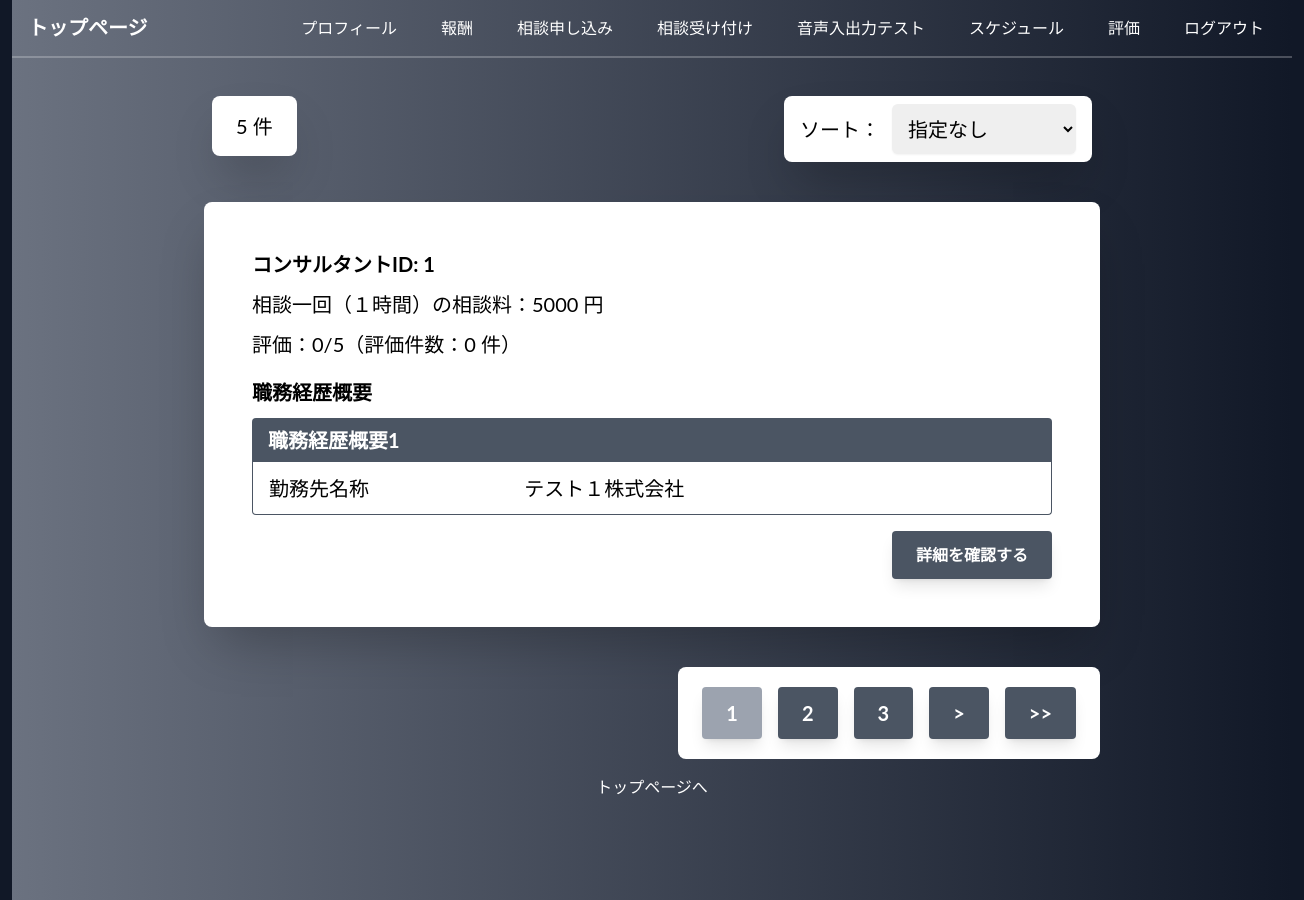
Test: ConsultantListPage.vue › has next, last, first, prev and 5 index buttons case1
This screenshot has width=1304, height=900.
expect the element with test id "page-move-buttons" is shown: met, box x1=678 y1=667 x2=1100 y2=759
Click the button "3". click: (883, 713)
box: x1=854 y1=687 x2=913 y2=739
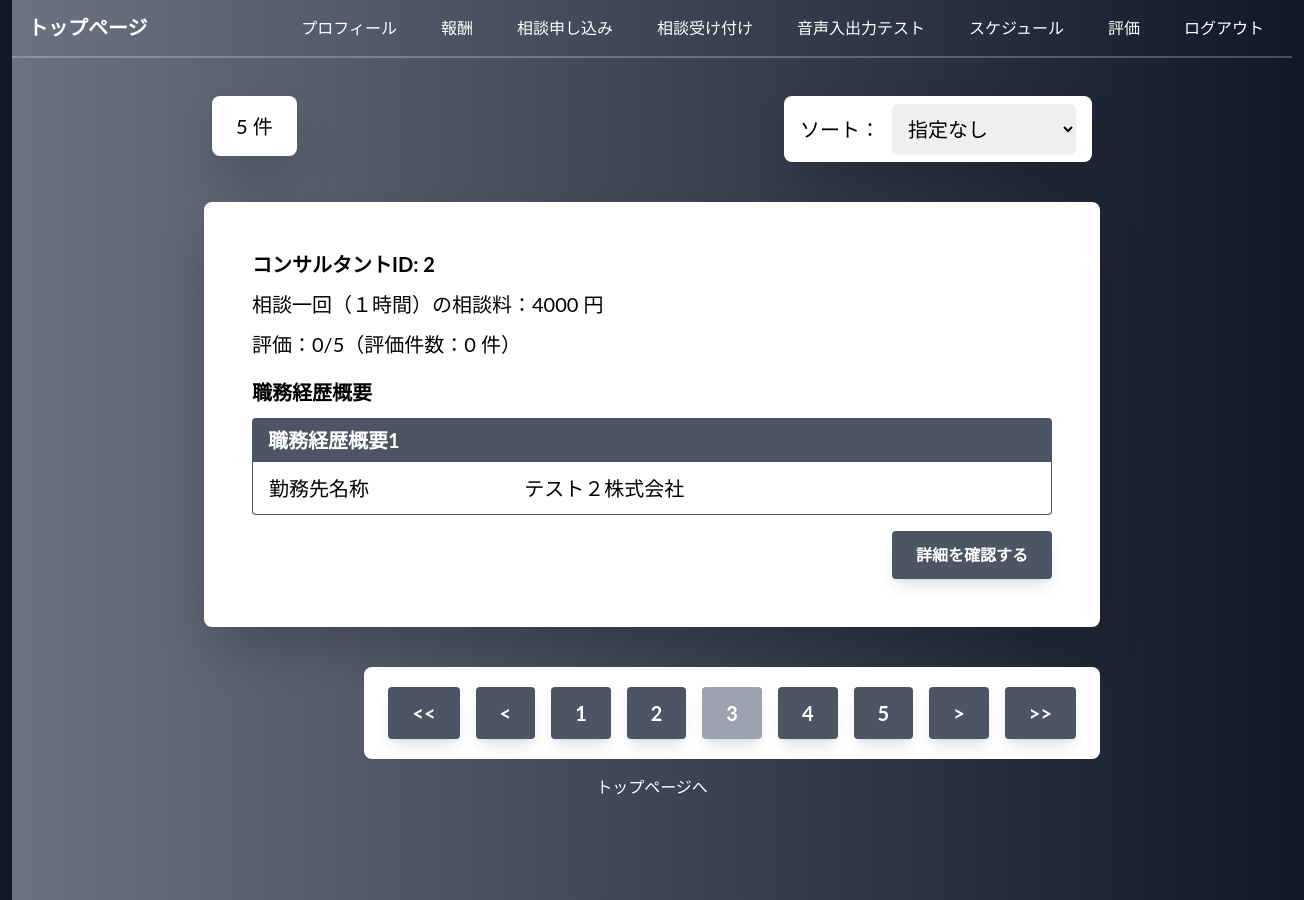
expect the button with test id "to-first-button" is shown: met, box x1=388 y1=687 x2=460 y2=739
expect the button with test id "to-prev-button" is shown: met, box x1=476 y1=687 x2=535 y2=739
expect the element with test id "page-index-3" is shown: met, box x1=778 y1=687 x2=838 y2=739
